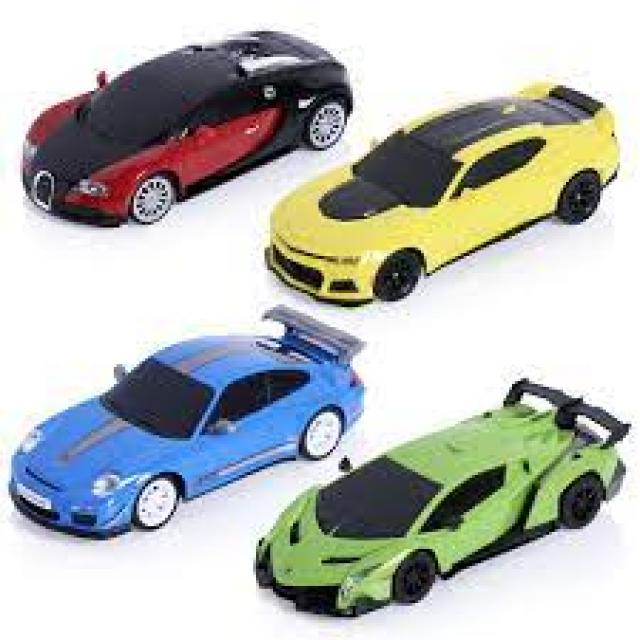Car: (253, 376, 629, 618), (6, 302, 367, 538), (262, 77, 620, 304), (20, 26, 353, 228)
